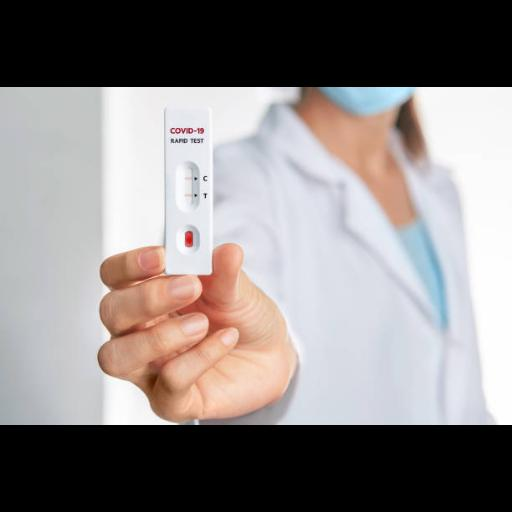Pos: (164, 108, 212, 272)
